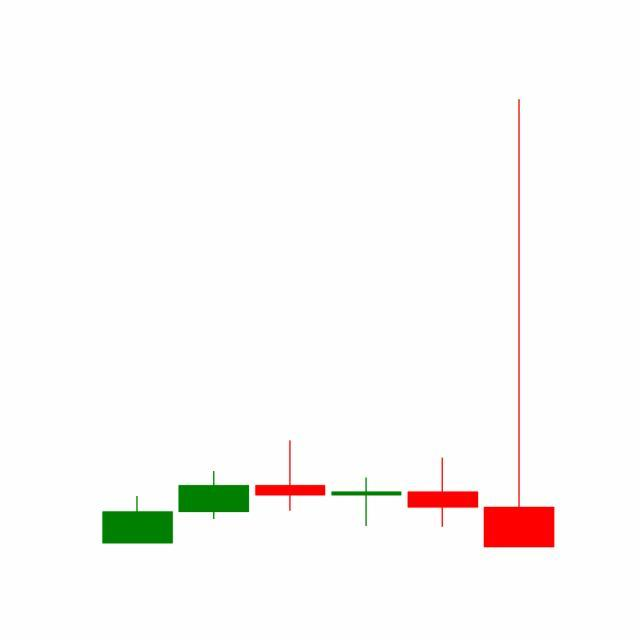Spinning Top: (404, 456, 482, 528)
